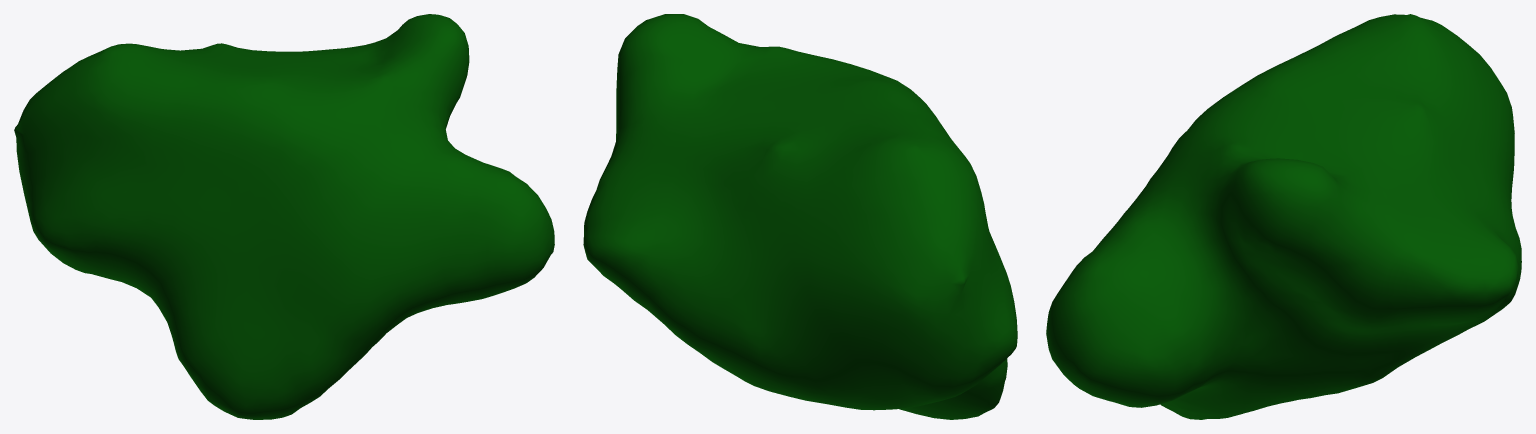
File: Lesion.obj
3 views of the same model, side by side, from view 1: azimuth 30°, elevation 25°; view 2: azimuth 150°, elevation 25°; view 3: azimuth 270°, elevation 25° (orthographic). The views are drawn at different scales.
Parts seen in each view (by area): view 1: grp1; view 2: grp1; view 3: grp1.
Boxes of the visible parts, left/top/right/bottom form: grp1: left=14, top=14, right=554, bottom=419; grp1: left=583, top=14, right=1017, bottom=419; grp1: left=1046, top=14, right=1521, bottom=419.
Bounding box in the file's own units: 23.55 × 18.47 × 21.87.
